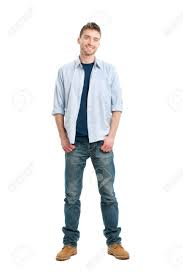standing: (48, 16, 134, 267)
